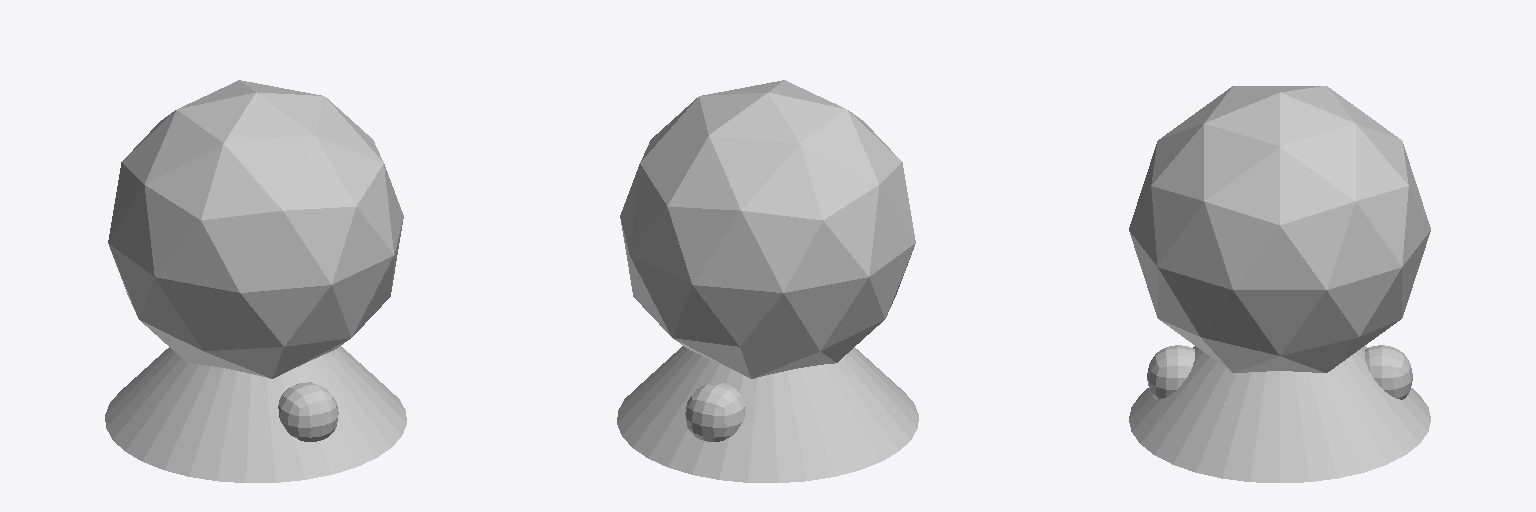
Rendered from magic_sphere.obj.
3 views of the same model, side by side, from view 1: azimuth 30°, elevation 25°; view 2: azimuth 150°, elevation 25°; view 3: azimuth 270°, elevation 25° (orthographic).
Visible parts, largest first — view 1: Icosphere, Cone, Cube; view 2: Icosphere, Cone, Cube; view 3: Icosphere, Cone, Cube.
Boxes of the visible parts, box(x1,y1,x2,y2) form: Icosphere: box(108, 80, 403, 378); Cone: box(105, 346, 406, 482); Cube: box(278, 382, 338, 441); Icosphere: box(620, 80, 915, 378); Cone: box(617, 346, 918, 482); Cube: box(685, 382, 745, 441); Icosphere: box(1129, 86, 1430, 372); Cone: box(1129, 346, 1430, 482); Cube: box(1147, 345, 1412, 399).
Bounding box in the file's own units: 2 × 2.39 × 2.